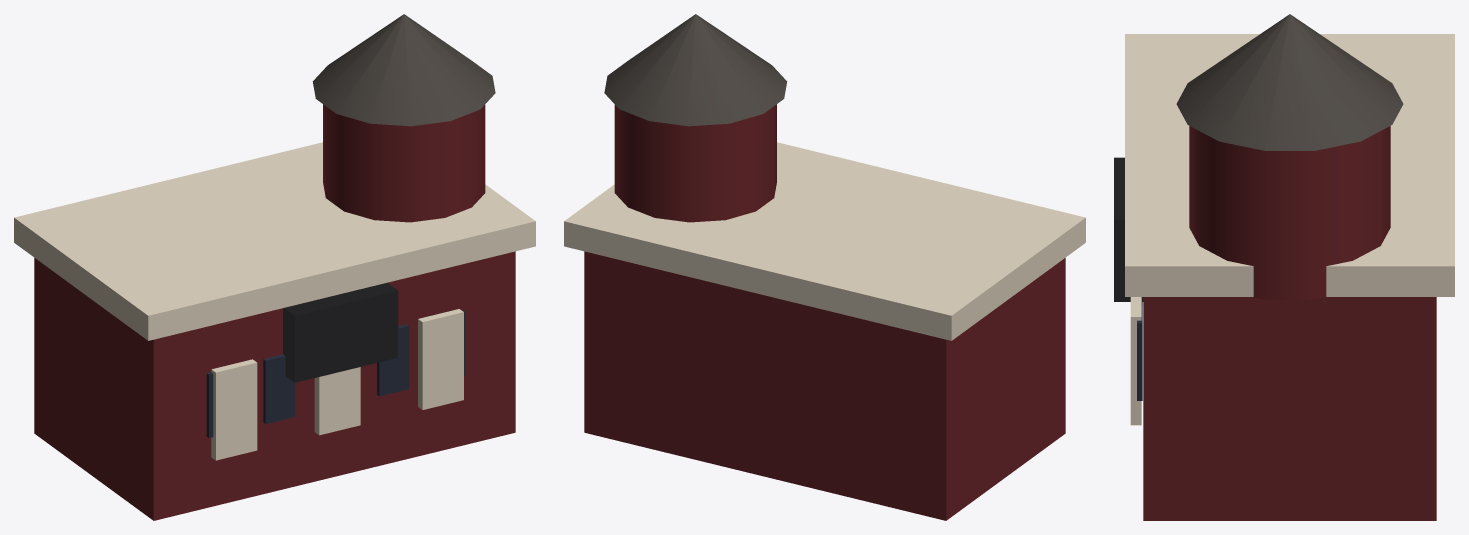
The model's file is goodgest.glb.
The picture shows the model from 3 angles, left to right: view 1: azimuth 30°, elevation 25°; view 2: azimuth 150°, elevation 25°; view 3: azimuth 270°, elevation 25°; orthographic projection. The views are drawn at different scales.
Parts seen in each view (by area): view 1: goodgest; view 2: goodgest; view 3: goodgest.
Boxes of the visible parts, x1,y1,x2,y2 form: goodgest: (14, 14, 535, 520); goodgest: (564, 14, 1085, 520); goodgest: (1114, 14, 1454, 520).
Bounding box in the file's own units: 0.2789 × 0.2576 × 0.1671.
